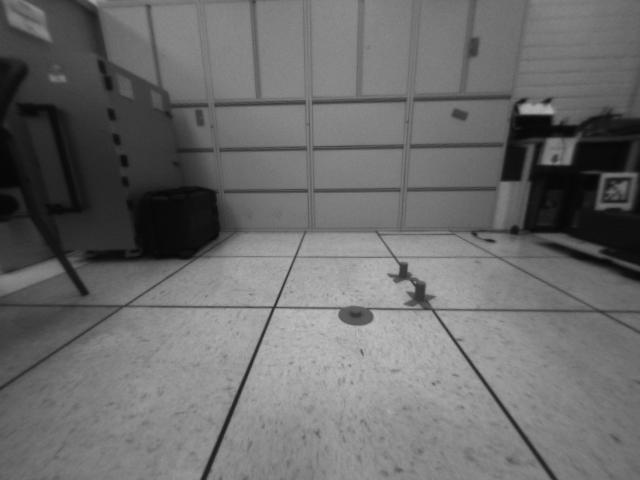X: (403, 280, 436, 313), (386, 261, 415, 283)
